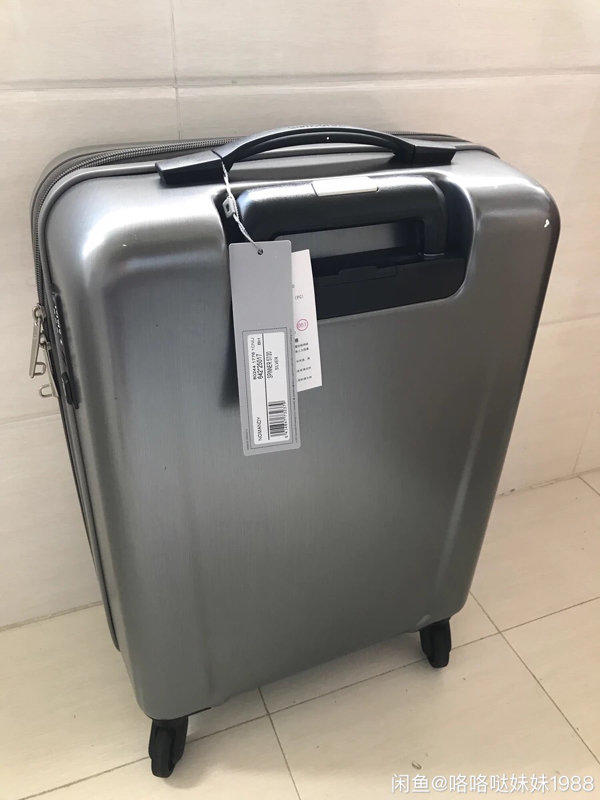luggage: (27, 124, 557, 775)
